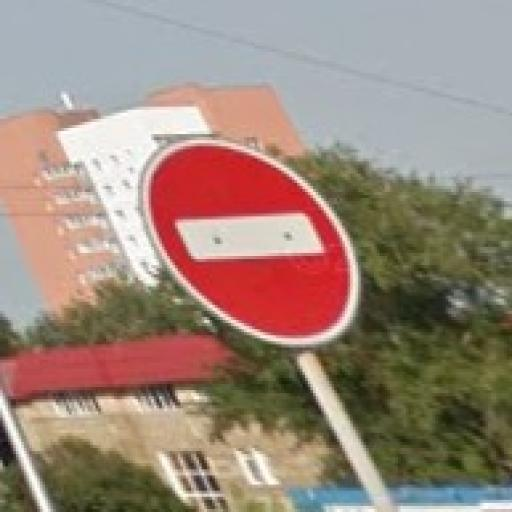traffic_sign: (142, 138, 365, 349)
